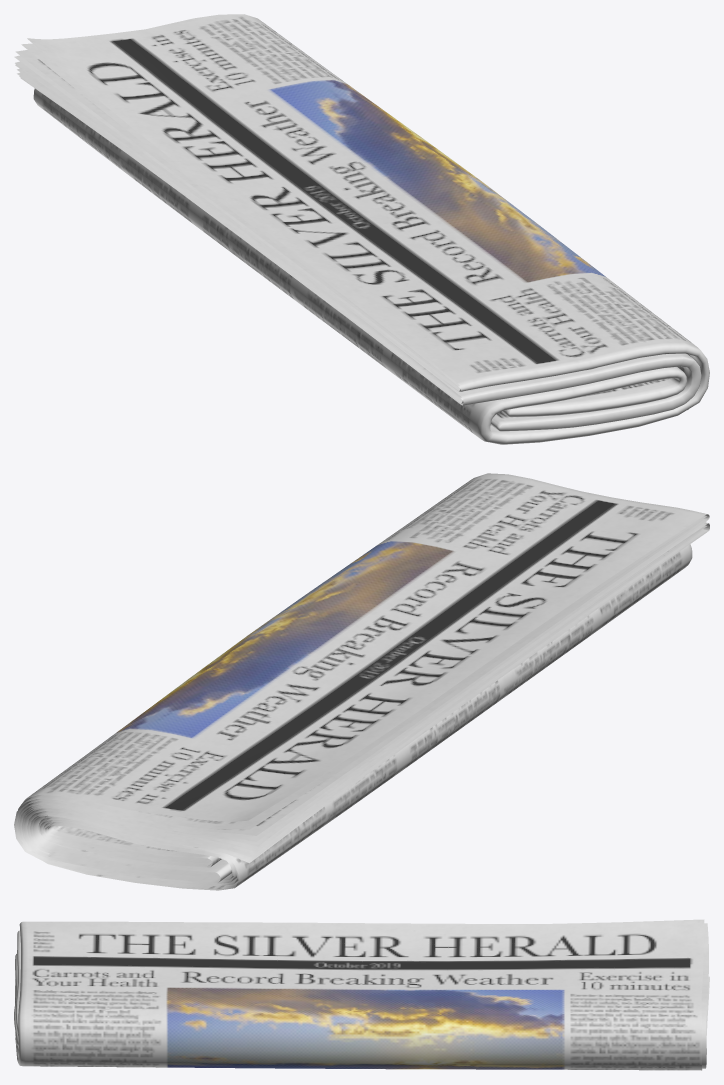
The model's file is NwePaper.fbx.
3 views of the same model, one above another, from view 1: azimuth 30°, elevation 25°; view 2: azimuth 150°, elevation 25°; view 3: azimuth 270°, elevation 25° (orthographic). The views are drawn at different scales.
Visible parts, largest first — view 1: Object_2; view 2: Object_2; view 3: Object_2.
Part boxes in pixels (box(x1,y1,x2,y2)): Object_2: box(14, 14, 709, 444); Object_2: box(14, 473, 709, 890); Object_2: box(14, 919, 709, 1070).
Size of the model in its own units: 1131 by 403 by 3486.
